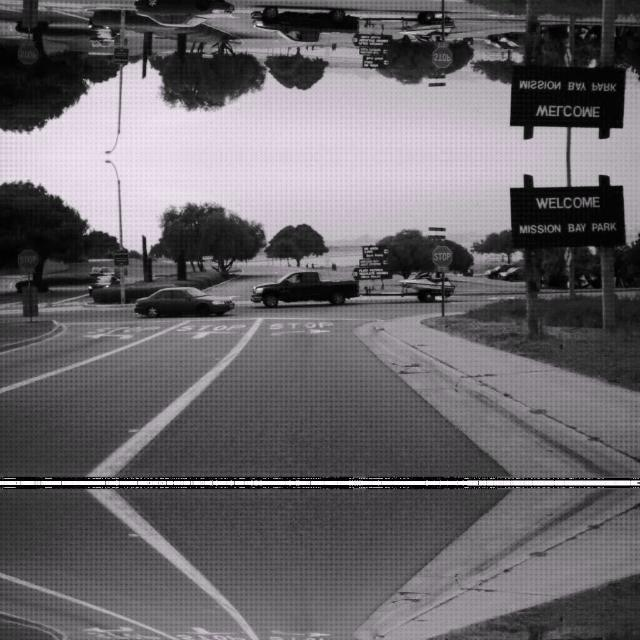stop: (16, 247, 38, 269), (16, 43, 38, 65), (431, 244, 452, 266), (431, 46, 452, 68)
